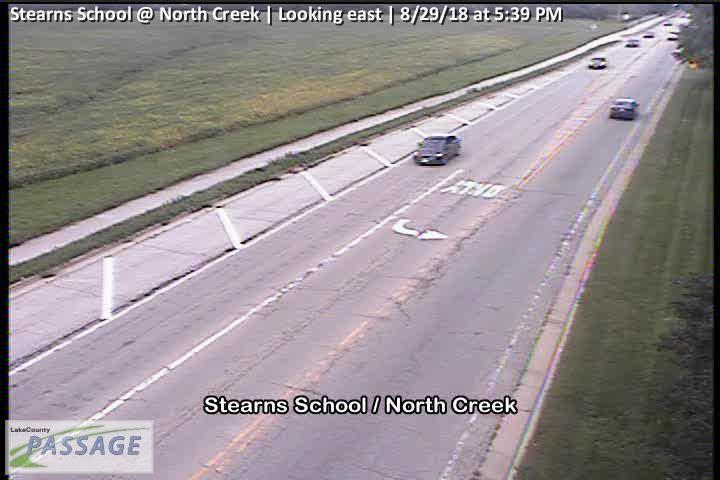SUV: (607, 98, 639, 120)
Sedan: (412, 135, 461, 167), (587, 56, 606, 68)
